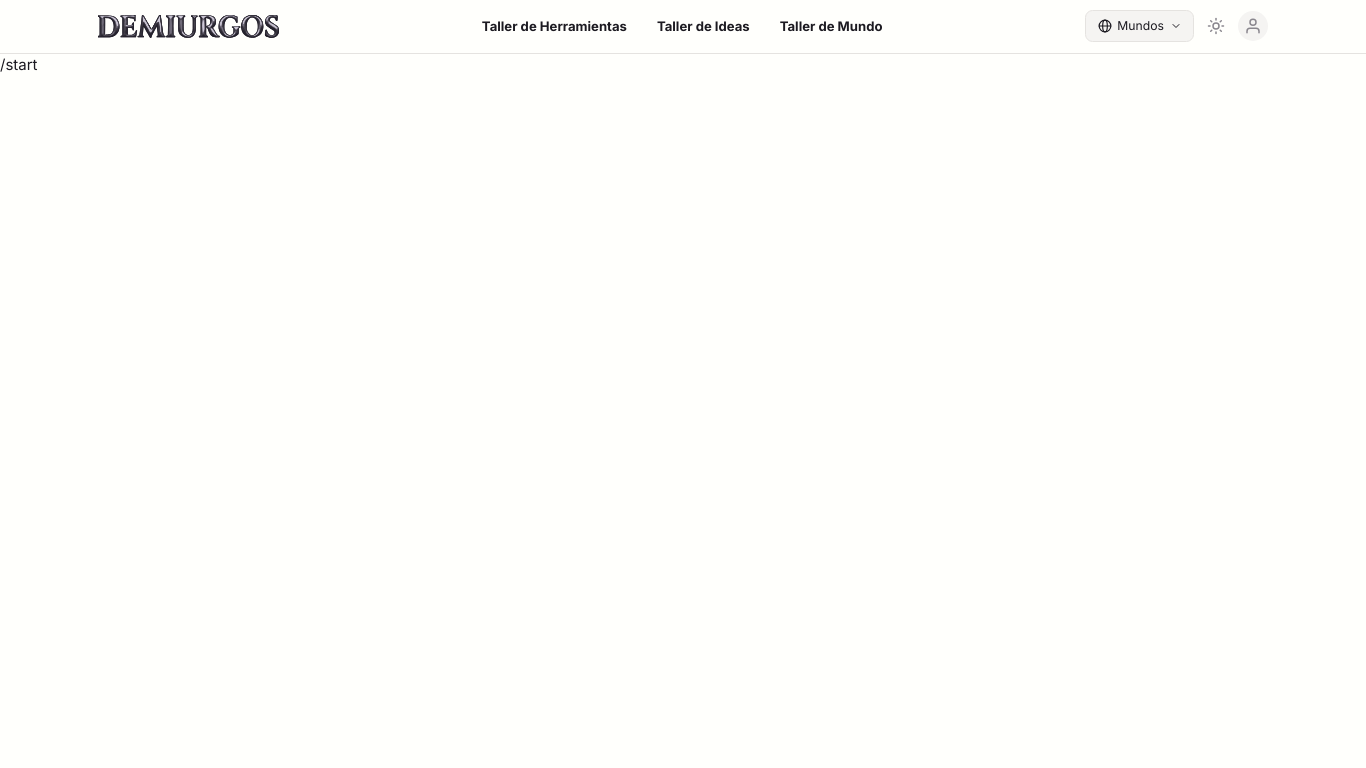
Test: Navbar system-control zone › hides the system-control zone when logged out (auth enabled, no session)
The width and height of the screenshot is (1366, 768).
Step 1. Click the button named "Perfil" → (1253, 26), box left=1238, top=11, right=1268, bottom=41
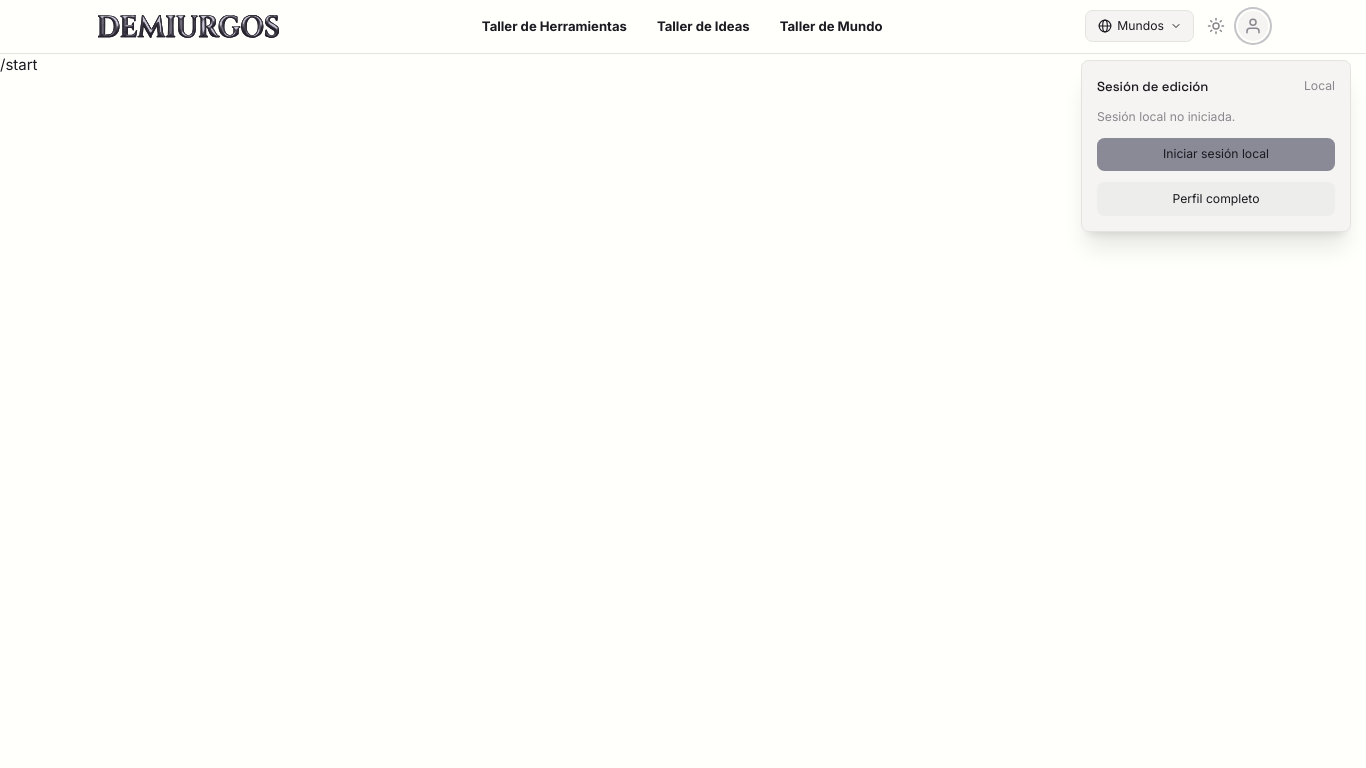
Result: the dialog "Perfil" is shown at left=1081, top=60, right=1351, bottom=232
